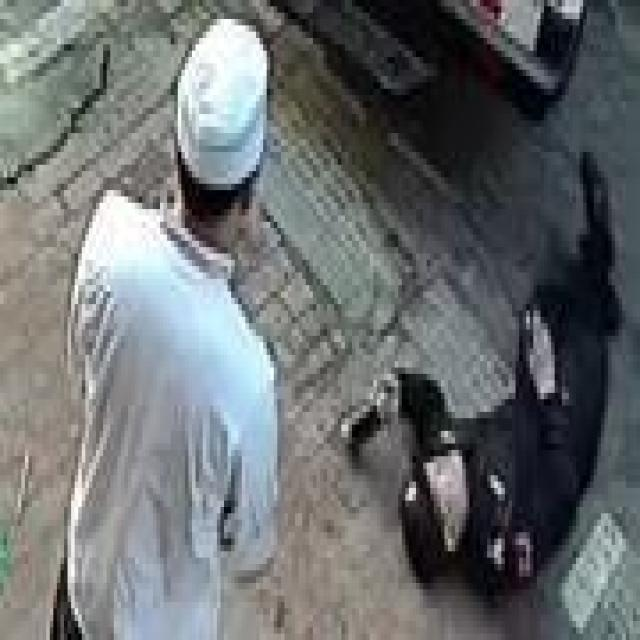fall: (334, 158, 619, 596)
nonfall: (49, 1, 290, 640)
